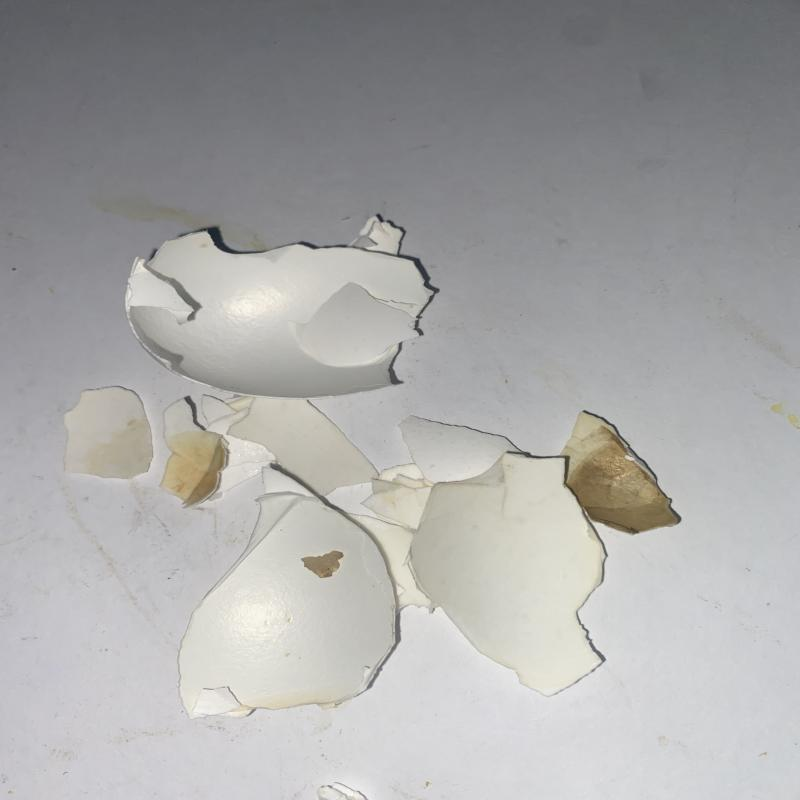egg shell: (361, 419, 607, 697), (124, 214, 434, 399), (178, 467, 397, 720), (160, 394, 378, 508), (64, 386, 153, 480)
